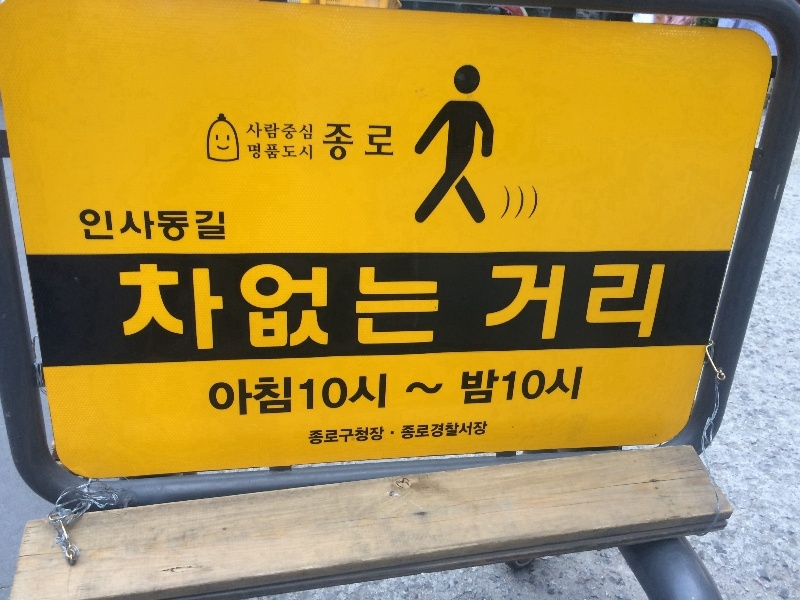text: (129, 263, 144, 352), (145, 263, 160, 352), (161, 263, 176, 352), (177, 263, 192, 352), (193, 263, 208, 352), (209, 263, 224, 352), (225, 263, 240, 352), (241, 263, 256, 352), (257, 263, 272, 352), (273, 263, 288, 352), (289, 263, 304, 352), (305, 263, 320, 352), (321, 263, 336, 352), (337, 263, 352, 352), (353, 263, 368, 352), (369, 263, 384, 352), (385, 263, 400, 352), (401, 263, 416, 352), (417, 263, 432, 352), (497, 263, 512, 341), (513, 263, 528, 341), (529, 263, 544, 341), (545, 263, 560, 341), (561, 263, 576, 341), (577, 263, 592, 341), (593, 263, 608, 341), (609, 263, 624, 341), (625, 263, 640, 341), (641, 263, 656, 341), (117, 263, 128, 352), (657, 263, 667, 341), (209, 375, 224, 418), (225, 375, 240, 418), (241, 375, 256, 418), (257, 375, 272, 418), (273, 375, 288, 418), (433, 263, 440, 352), (305, 371, 320, 412), (321, 371, 336, 412), (337, 371, 352, 412), (353, 371, 368, 412), (369, 371, 384, 412), (465, 366, 480, 407), (481, 366, 496, 407), (497, 366, 512, 407), (513, 366, 528, 407), (529, 366, 544, 407), (545, 366, 560, 407), (561, 366, 576, 407), (337, 123, 352, 162), (353, 123, 368, 162), (369, 123, 384, 162), (322, 123, 336, 162), (81, 209, 96, 243), (97, 209, 112, 243), (113, 209, 128, 243), (129, 209, 144, 243), (145, 209, 160, 243), (161, 209, 176, 243), (177, 209, 192, 243), (193, 209, 208, 243), (209, 209, 224, 243), (385, 123, 395, 162), (369, 425, 385, 446), (321, 425, 336, 446), (337, 425, 352, 446), (353, 425, 368, 446), (492, 263, 496, 341), (417, 420, 432, 440), (433, 420, 448, 440), (449, 420, 464, 440), (465, 420, 480, 440), (577, 366, 584, 407), (402, 420, 416, 440), (257, 143, 272, 161), (273, 143, 288, 161), (289, 143, 304, 161), (257, 122, 272, 140), (273, 122, 288, 140), (289, 122, 304, 140), (298, 371, 304, 412), (309, 425, 320, 446), (417, 383, 432, 396), (289, 375, 293, 418), (247, 143, 256, 161), (433, 383, 445, 396), (248, 122, 256, 140), (305, 122, 313, 140), (405, 383, 416, 396), (481, 420, 488, 440), (305, 143, 312, 161), (461, 366, 464, 407), (385, 371, 387, 412), (78, 209, 80, 243), (225, 209, 226, 243)
